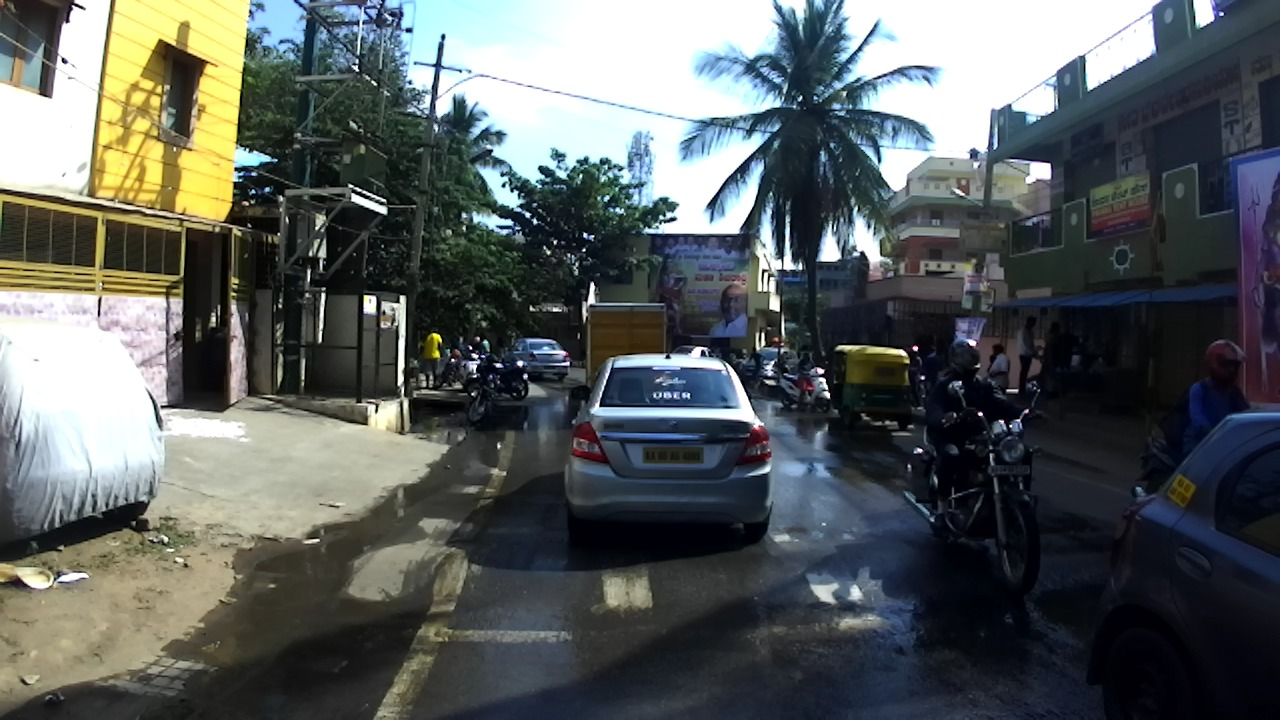autorickshaw: (827, 346, 915, 433), (714, 348, 748, 365)
car: (1087, 410, 1280, 720), (567, 337, 777, 547), (2, 322, 164, 547), (502, 339, 572, 380), (739, 348, 798, 379), (674, 346, 712, 359)
motorcycle: (901, 379, 1048, 592), (1131, 429, 1178, 498), (457, 361, 529, 400), (781, 360, 830, 414), (467, 367, 498, 426), (471, 351, 525, 370), (435, 356, 465, 390), (459, 347, 479, 390), (909, 374, 928, 407)
person: (1018, 315, 1039, 394), (420, 325, 446, 388), (986, 344, 1013, 394), (924, 345, 942, 404), (1044, 320, 1061, 372), (748, 346, 764, 381), (497, 339, 507, 359)
rider: (925, 337, 1045, 533), (1155, 341, 1252, 459), (796, 350, 817, 408), (907, 344, 925, 407), (771, 349, 789, 375), (450, 333, 465, 358), (477, 334, 492, 356), (471, 332, 479, 350), (729, 348, 736, 367)
truck: (574, 299, 666, 391)
